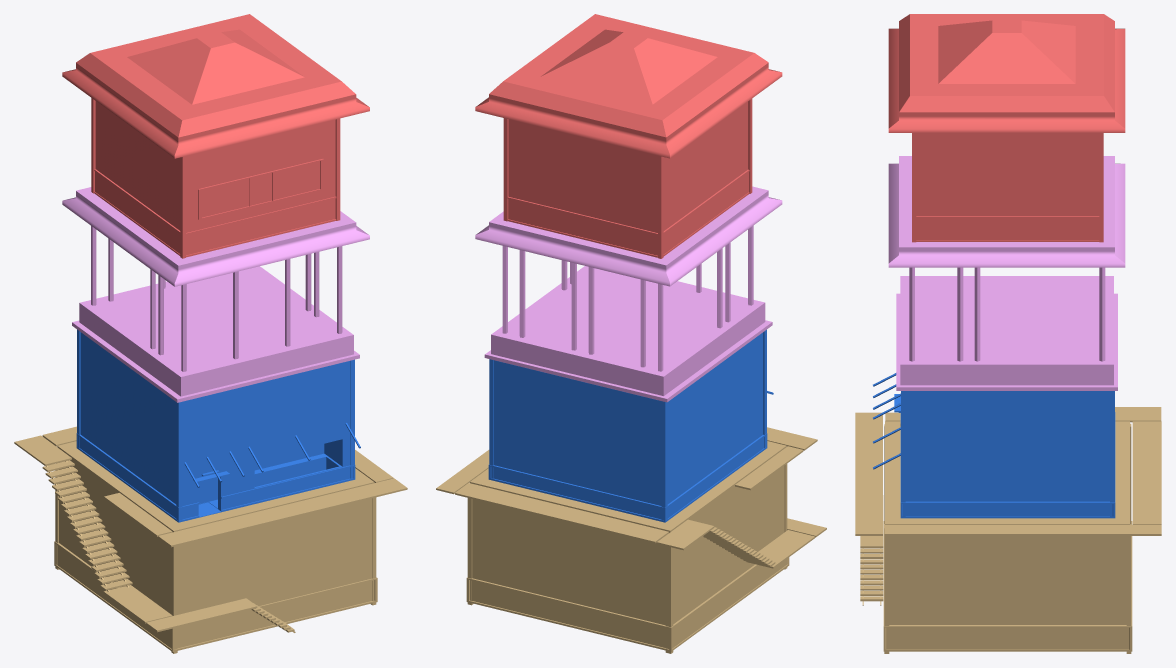
The model's file is Tower_substance.fbx.
The picture shows the model from 3 angles, left to right: view 1: azimuth 30°, elevation 25°; view 2: azimuth 150°, elevation 25°; view 3: azimuth 270°, elevation 25°; orthographic projection. The views are drawn at different scales.
Visible parts, largest first — view 1: polySurface4, pCube1, pCube39, pCube31, pCube37, pCube36, pCube3, pPlane1, pCube4, pCube5, pCube6, pCube28 (+6 smaller); view 2: pCube1, polySurface4, pCube39, pCube37, pCube31, pCube36, pCube29, pCube5, pCube6, pCube28, pCube55, pCube30 (+7 smaller); view 3: pCube1, pCube39, polySurface4, pCube31, pCube37, pCube36, pCube3, pCube29, pCube30, pCube28, pCylinder10, pCylinder12 (+8 smaller).
Boxes of the visible parts, x1,y1,x2,y2 form: polySurface4: (76,332,355,522); pCube1: (54,441,377,651); pCube39: (62,14,369,158); pCube31: (72,266,359,402); pCube37: (94,101,336,257); pCube36: (62,187,369,286); pCube3: (158,478,407,547); pPlane1: (202,161,319,217); pCube4: (146,598,257,632); pCube5: (103,585,172,623); pCube6: (104,493,172,536); pCube28: (14,435,71,465); pCube1: (466,441,789,651); polySurface4: (488,332,767,522); pCube39: (475,14,782,158); pCube37: (507,102,749,257); pCube31: (484,266,772,402); pCube36: (475,186,782,286); pCube29: (455,483,668,543); pCube5: (746,530,815,568); pCube6: (735,446,803,490); pCube28: (657,519,714,550); pCube55: (665,546,673,653); pCube30: (436,450,489,494); pCube1: (883,421,1132,651); pCube39: (888,14,1125,132); polySurface4: (900,391,1115,518); pCube31: (896,276,1117,390); pCube37: (916,133,1099,241); pCube36: (888,156,1125,267); pCube3: (855,412,882,535); pCube29: (1132,421,1161,524); pCube30: (884,525,1161,535); pCube28: (1115,407,1161,422); pCylinder10: (1099,267,1105,361); pCylinder12: (957,267,963,361).
Size of the model in its own units: 16.87 by 35.51 by 17.15.
